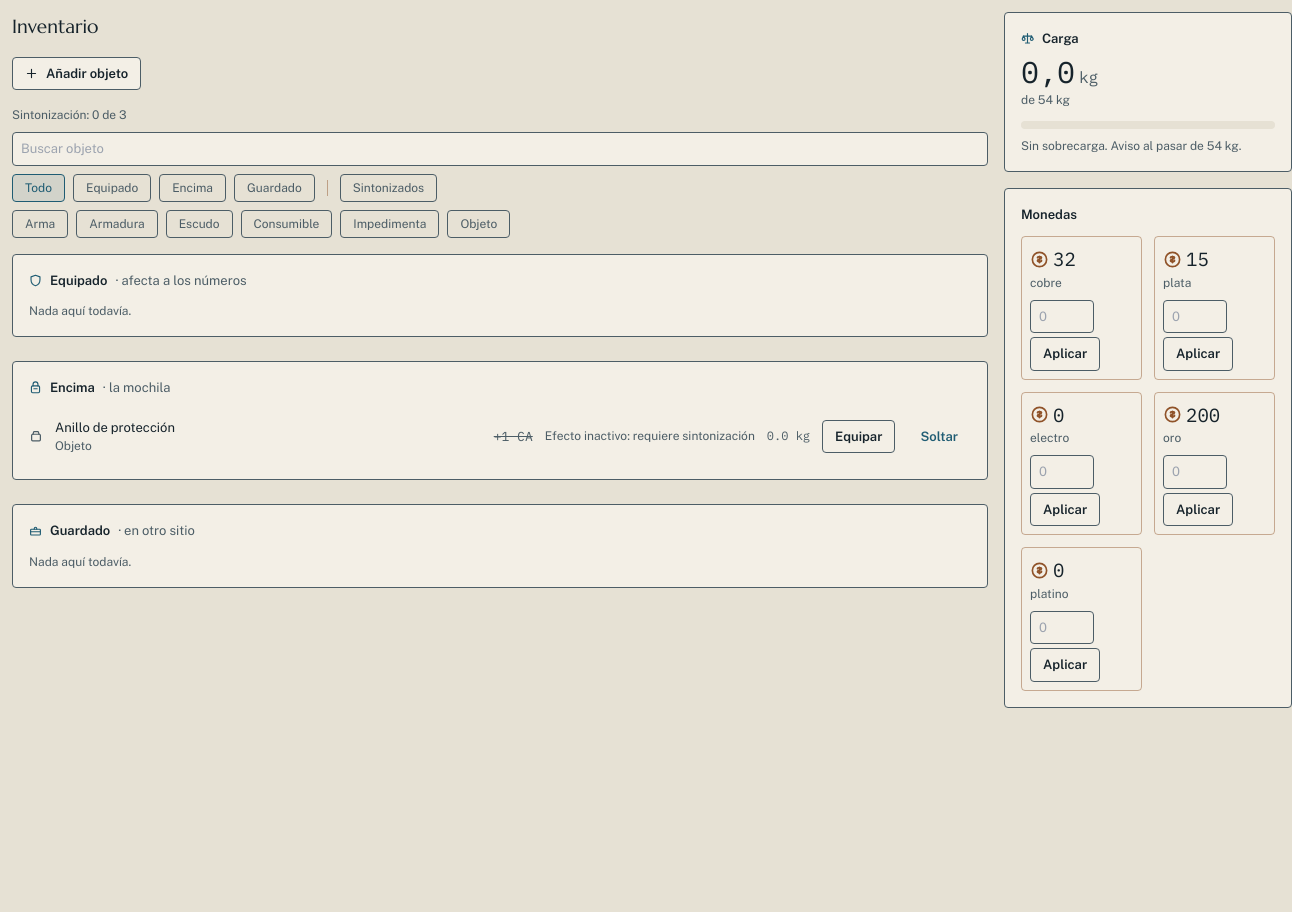
Test: PaginaDeInventario › equipar algo que cambia la CA enseña el aviso de confirmación con el antes y el después
Click the button "Equipar".
click(859, 436)  # box [822,420,895,453]
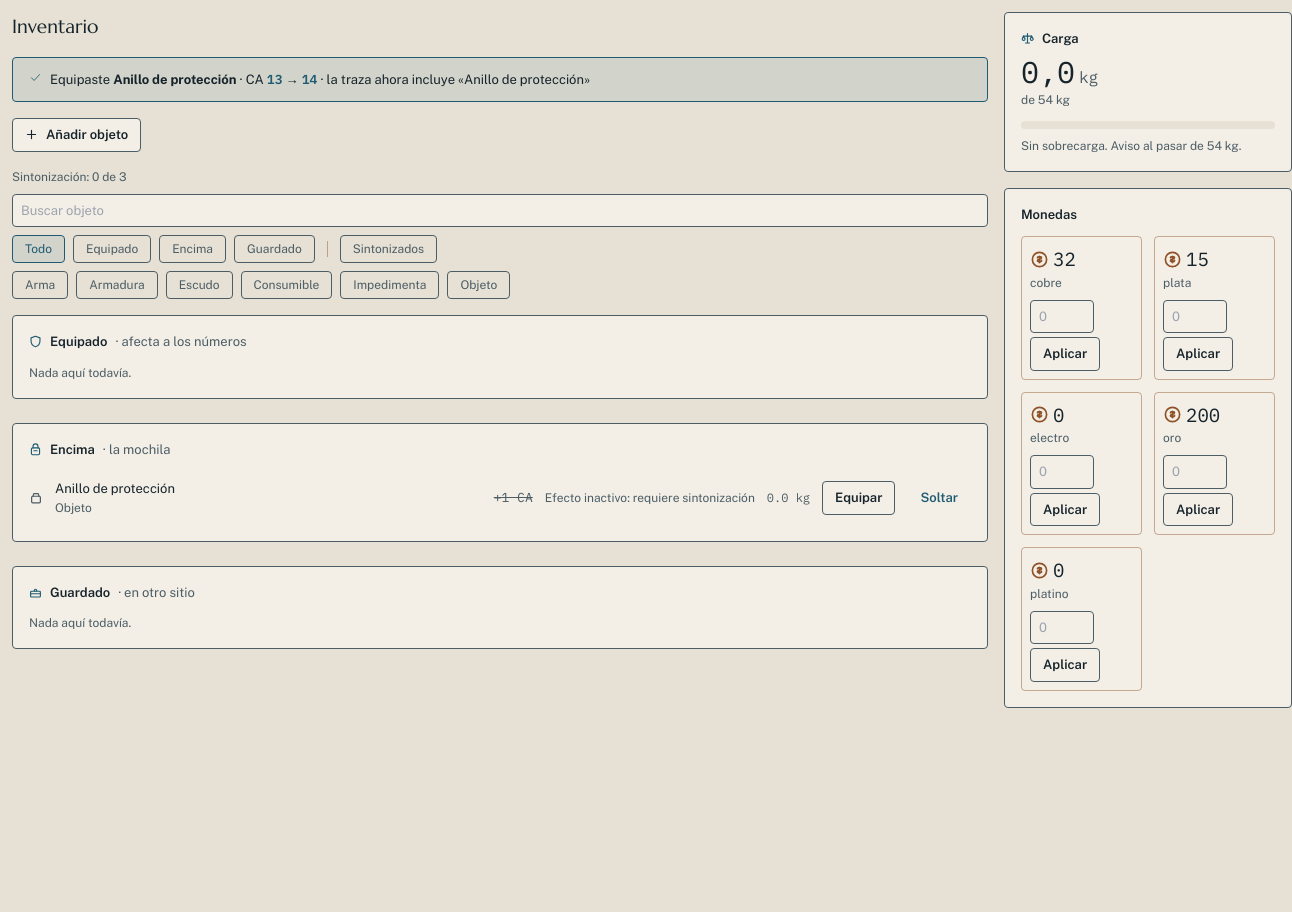
Expected: the message shows "Equipaste", [50,72,110,86]
Expected: the message shows "Anillo de protección", [113,72,236,86]
Expected: the message shows "13", [267,70,282,88]
